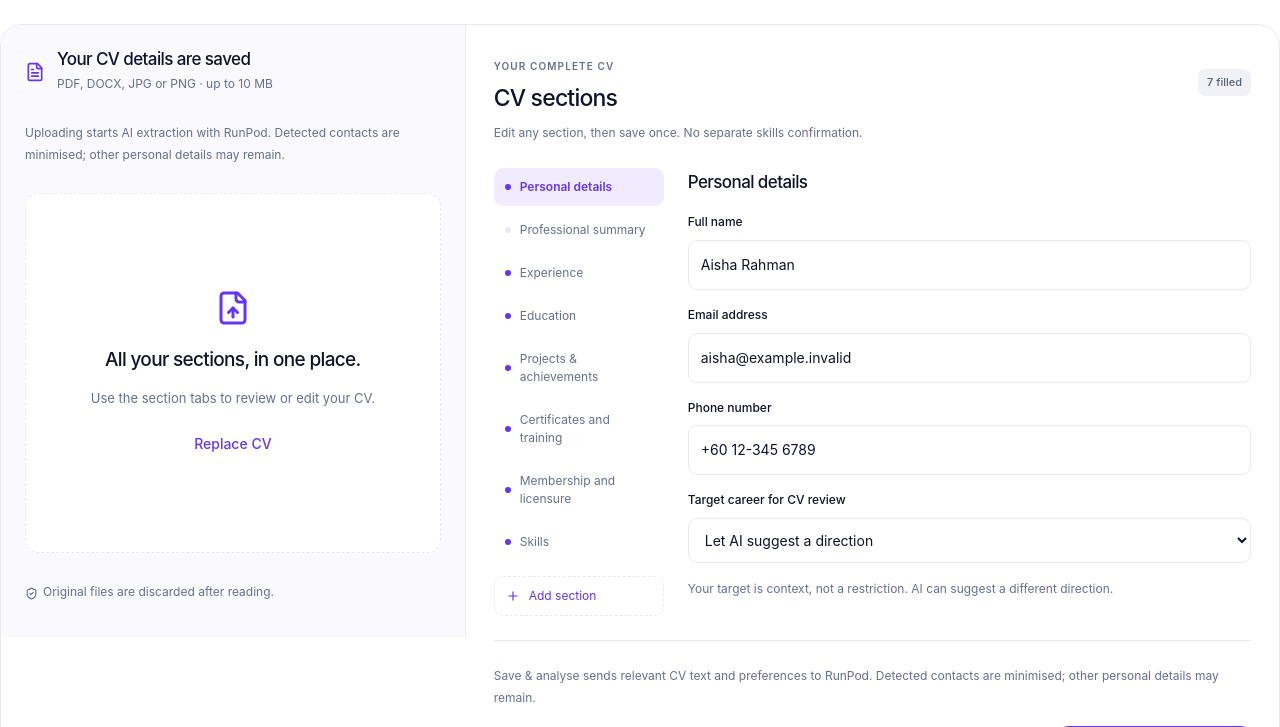
supports adding and removing a custom section without changing other sections
Click the button "Add section": (579, 596) [494,576,664,616]
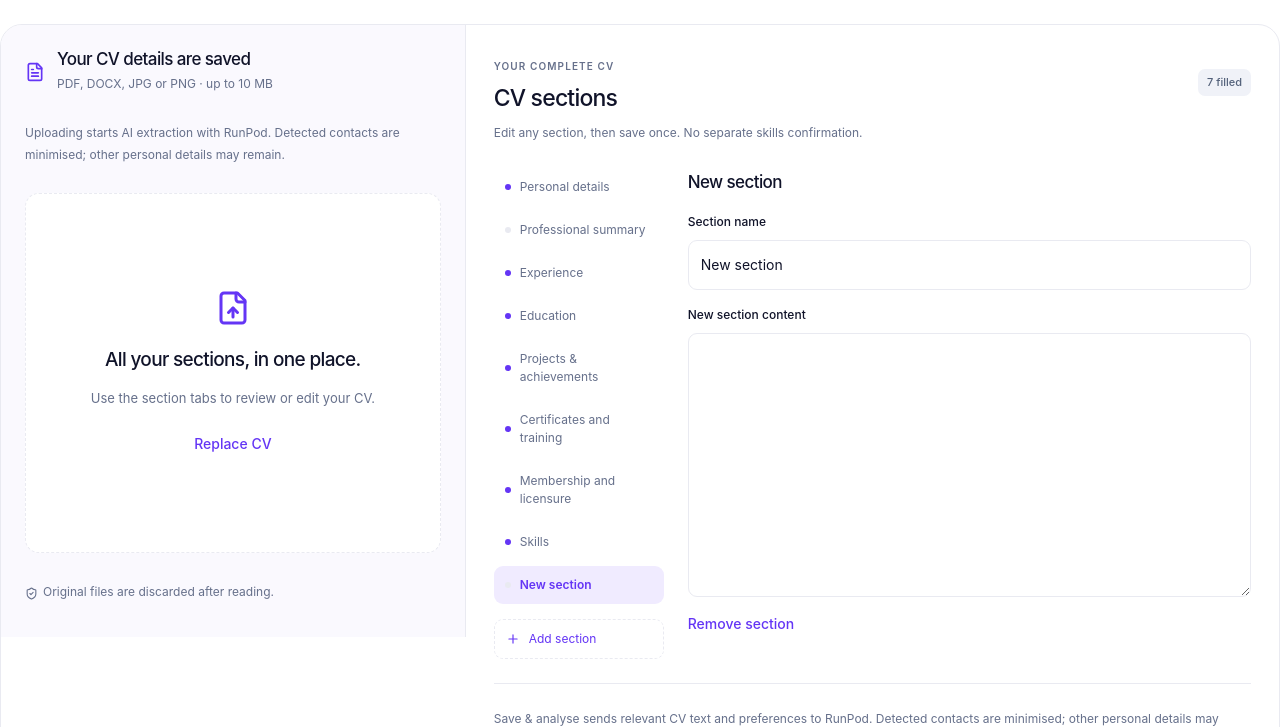
Replace the text in the field labelled "Section name" with "Publications": (969, 265) [688,240,1251,290]
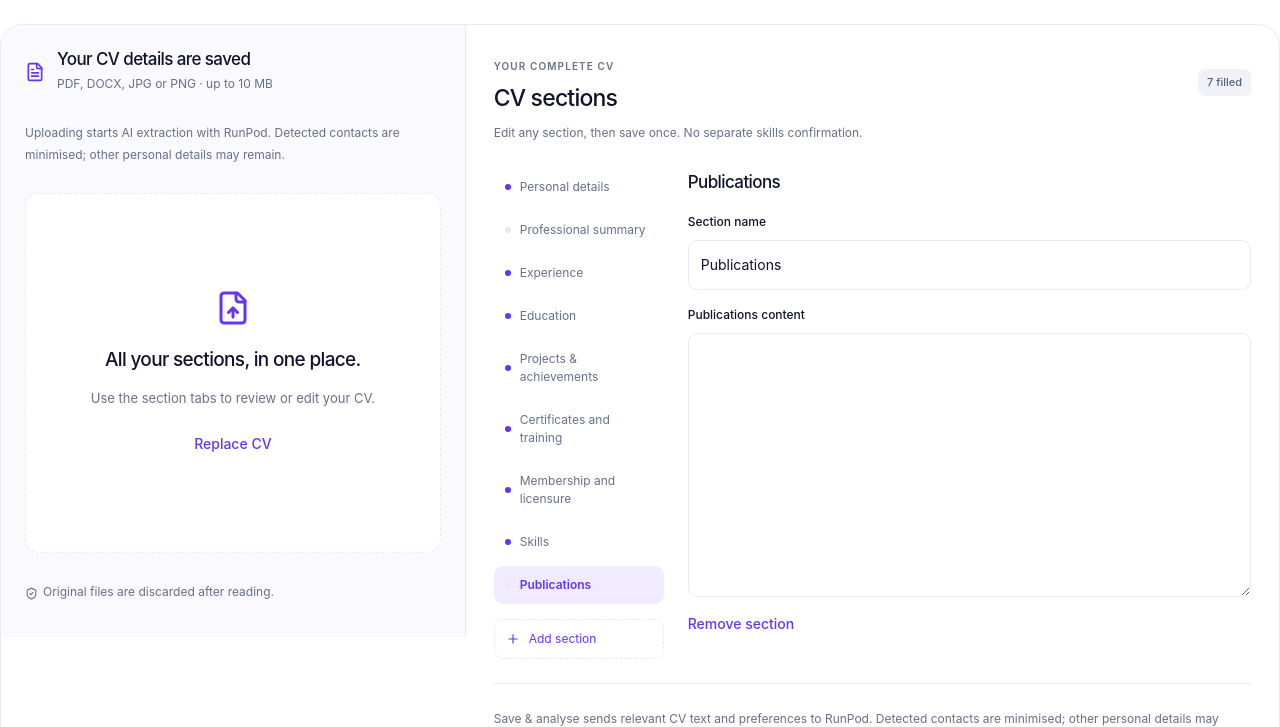
Click the button "Remove section": (741, 624) [688,613,794,635]
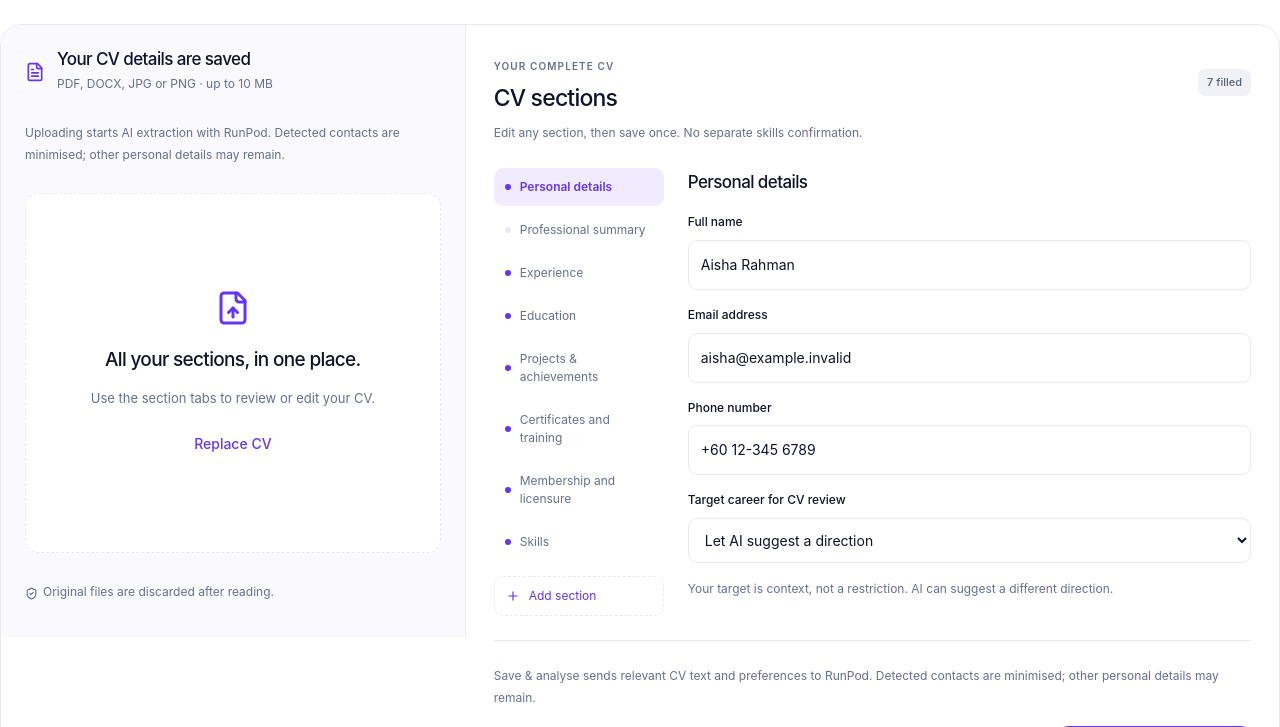
Check: the tab "Publications" is gone
Check: the field labelled "Full name" holds "Aisha Rahman", box [688,240,1251,290]
